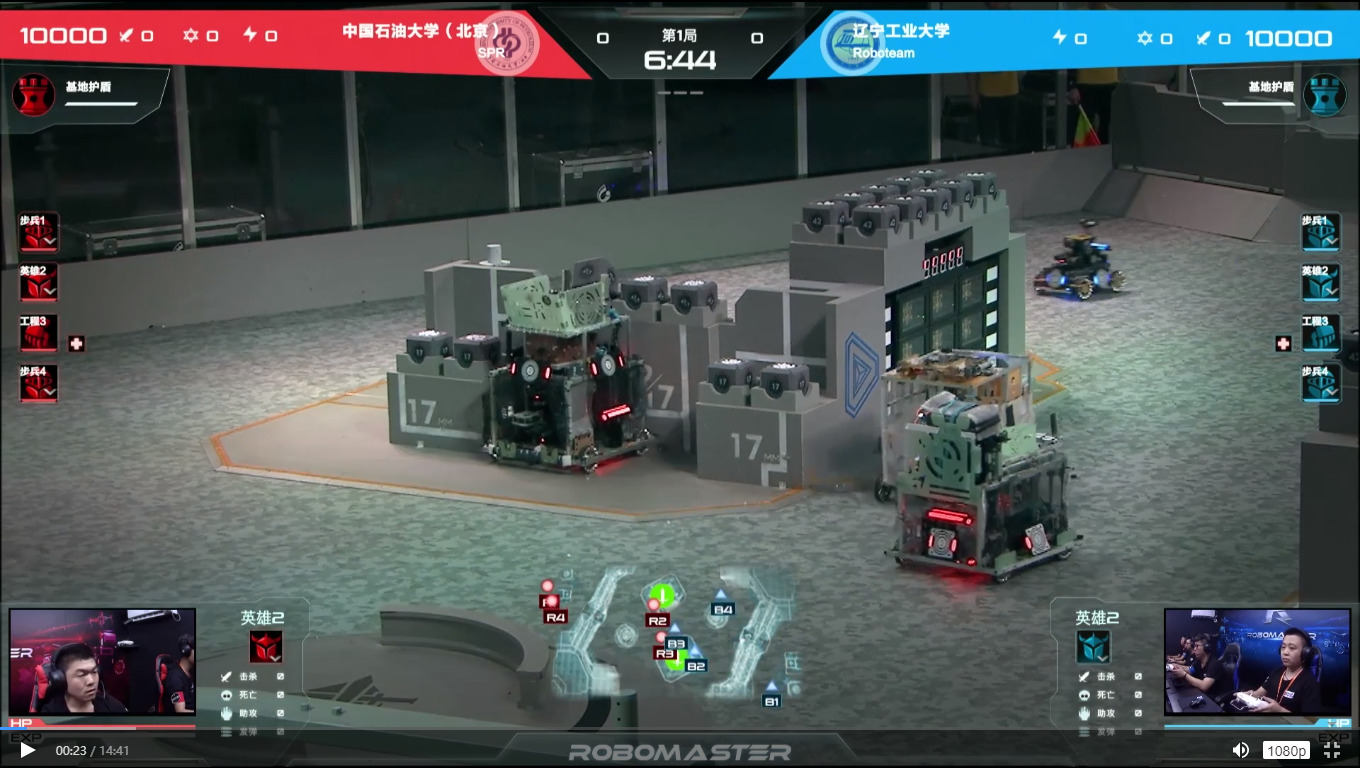box: (562, 258, 621, 306), (706, 351, 759, 396), (802, 199, 852, 242), (762, 365, 816, 404), (406, 328, 455, 368), (959, 162, 1003, 201), (452, 332, 493, 372), (622, 274, 666, 311), (671, 281, 718, 314), (852, 204, 896, 239), (939, 175, 981, 211), (891, 196, 931, 229), (916, 184, 953, 216), (868, 175, 905, 202), (835, 189, 873, 209)
